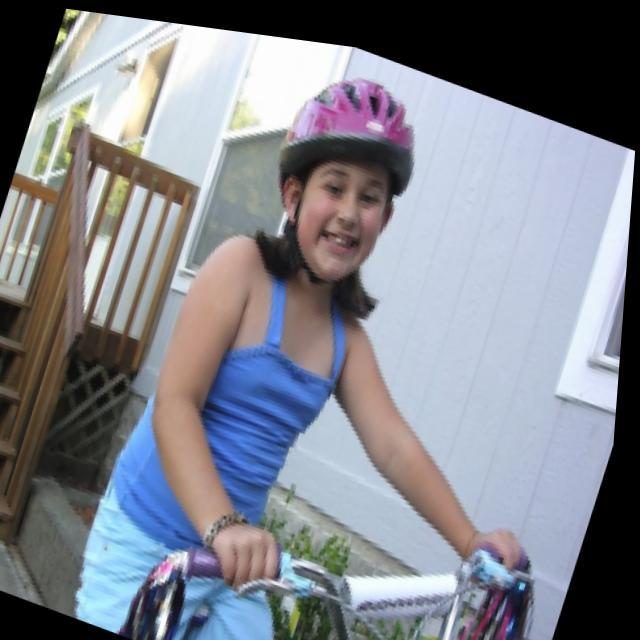Helmet: (263, 63, 425, 298)
